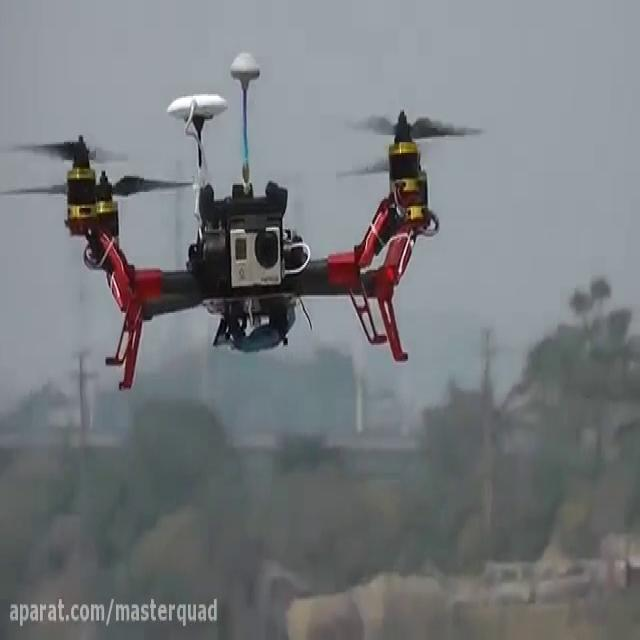drone: (0, 44, 487, 397)
